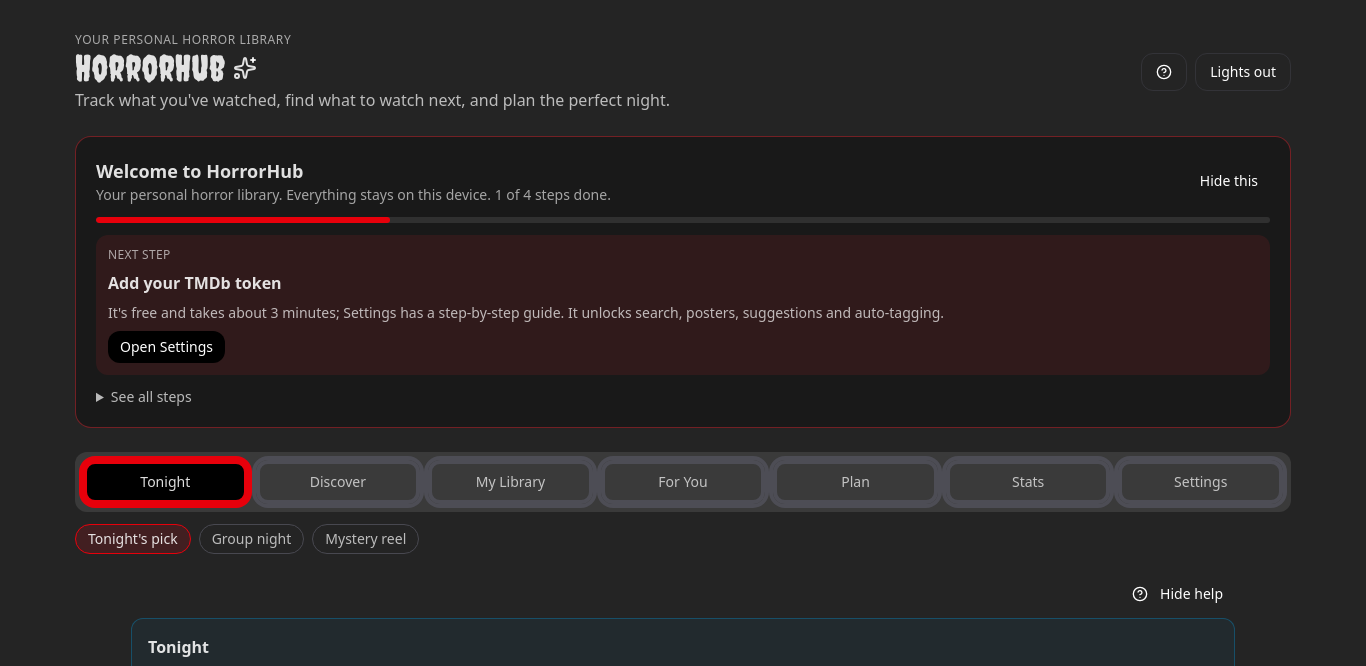
Scenario: lazy screens › loads Stats on demand and shows it
Click the tab "Stats".
click(1028, 482)  # box [946,460,1110,504]
(page scrolled)
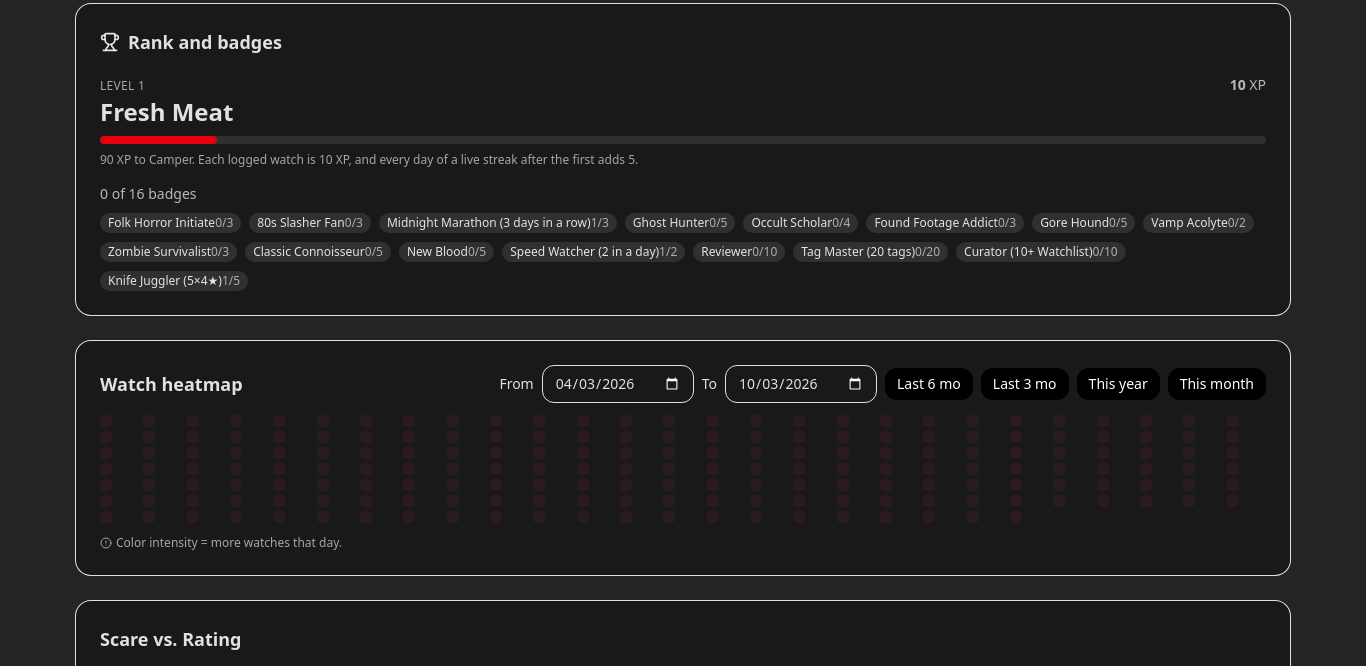
Result: the text "Watch heatmap" is shown at [100,370,243,398]
